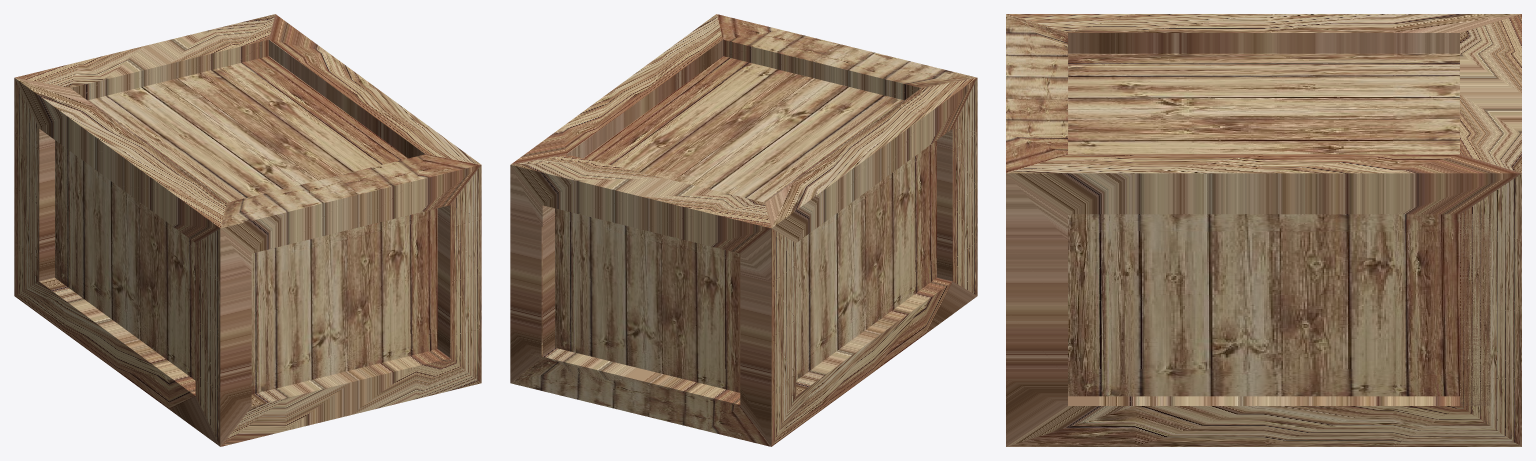
File: Caisse.FBX
3 views of the same model, side by side, from view 1: azimuth 30°, elevation 25°; view 2: azimuth 150°, elevation 25°; view 3: azimuth 270°, elevation 25° (orthographic). The views are drawn at different scales.
Parts seen in each view (by area): view 1: Boîte001; view 2: Boîte001; view 3: Boîte001.
Boxes of the visible parts, x1,y1,x2,y2 form: Boîte001: (14, 14, 481, 446); Boîte001: (510, 14, 977, 446); Boîte001: (1006, 14, 1521, 446).
Bounding box in the file's own units: 19.69 × 15.75 × 26.91.
